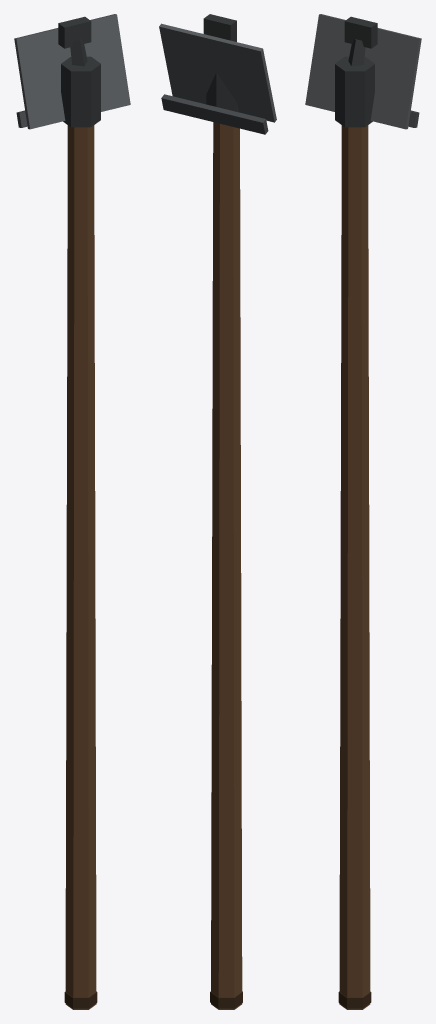
File: tool_hoe.glb
3 renders of one model, left to right at view 1: azimuth 30°, elevation 25°; view 2: azimuth 150°, elevation 25°; view 3: azimuth 330°, elevation 25°, orthographic.
Parts seen in each view (by area): view 1: Hoe; view 2: Hoe; view 3: Hoe.
Boxes of the visible parts, x1,y1,x2,y2 form: Hoe: (14,14,130,1009); Hoe: (159,14,276,1009); Hoe: (305,14,421,1009).
Size of the model in its own units: 0.15 by 1.39 by 0.0686.
